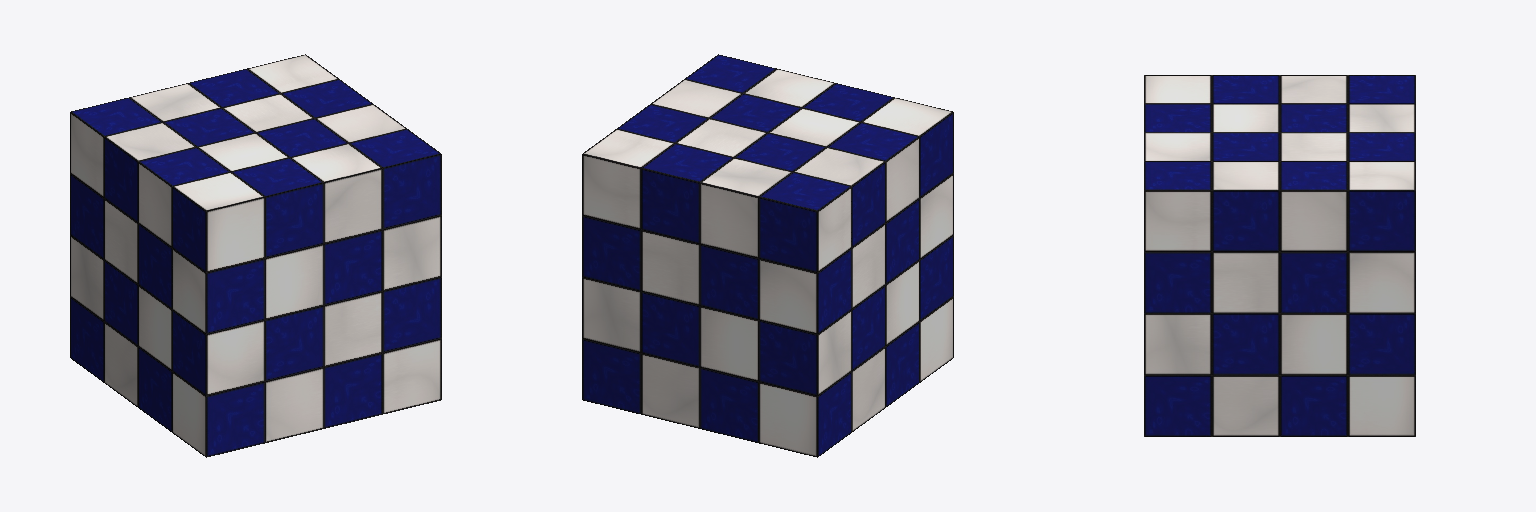
3 renders of one model, left to right at view 1: azimuth 30°, elevation 25°; view 2: azimuth 150°, elevation 25°; view 3: azimuth 270°, elevation 25°, orthographic.
Visible parts, largest first — view 1: Cube; view 2: Cube; view 3: Cube.
Boxes of the visible parts, x1,y1,x2,y2 form: Cube: [70, 54, 441, 457]; Cube: [582, 54, 953, 457]; Cube: [1144, 75, 1415, 436].
Size of the model in its own units: 2 by 2 by 2.
Materials: 1 (1 with a texture image).